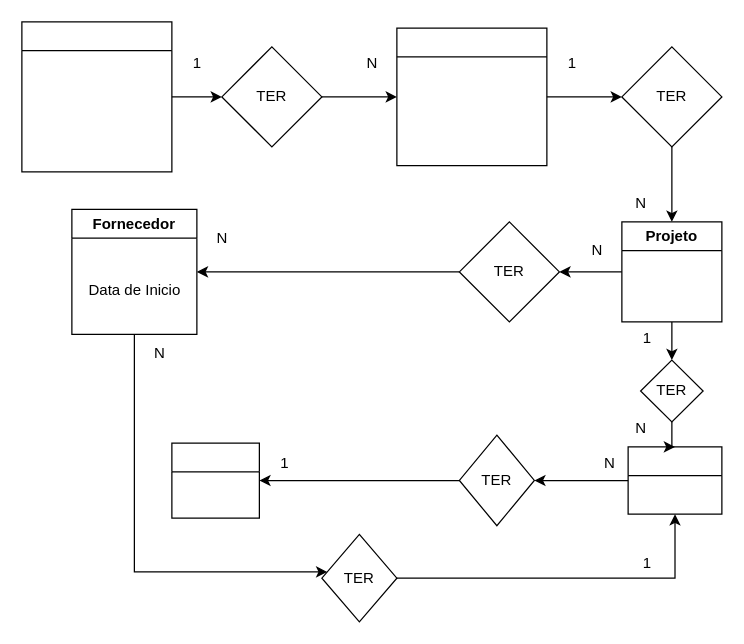
This 744x644 diagram has some shape labels left out. The shapes that lost their labels are listed below. From the top down, each one's box as (x1, y1, x2, y2) in pixels, then its label:
(21, 21, 172, 172): Departamento
(396, 27, 547, 166): Funcionário
(171, 442, 259, 518): Deposito
(627, 446, 722, 514): Peças
